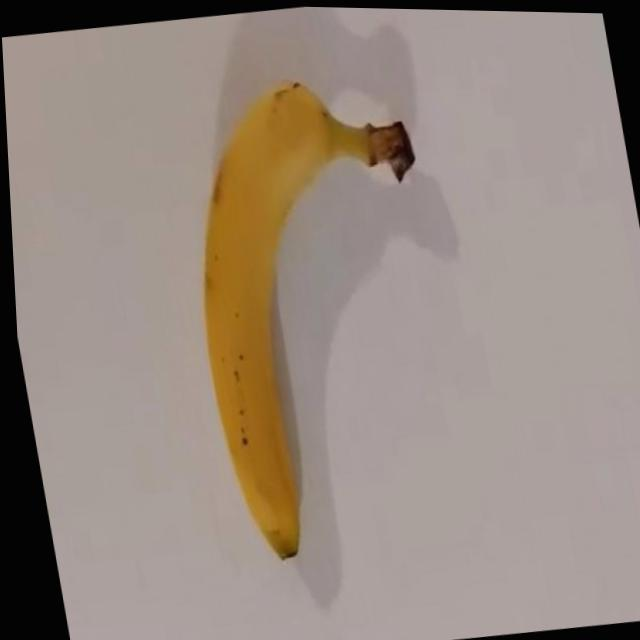Banana: (159, 64, 459, 573)
